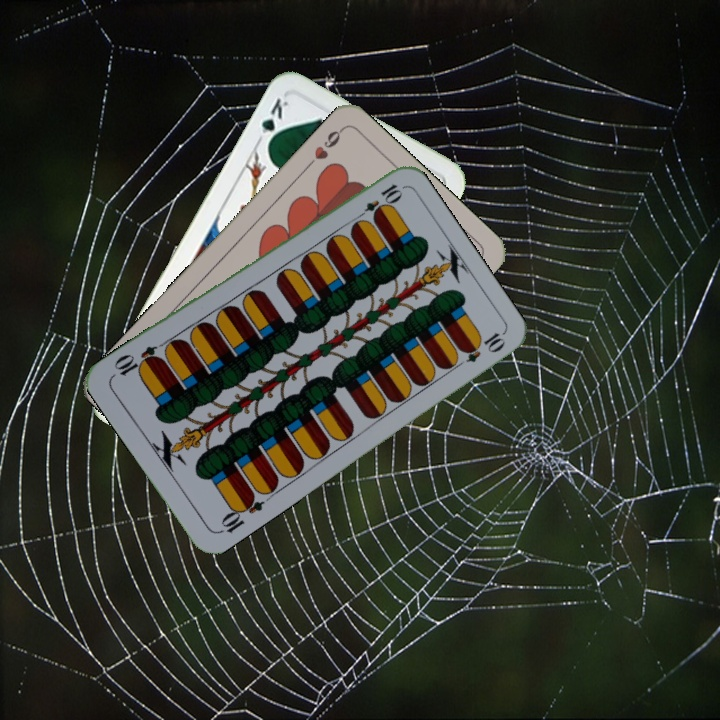E10: (215, 489, 267, 536), (351, 179, 404, 224)
GK: (252, 93, 291, 150)
H9: (301, 124, 346, 172)
